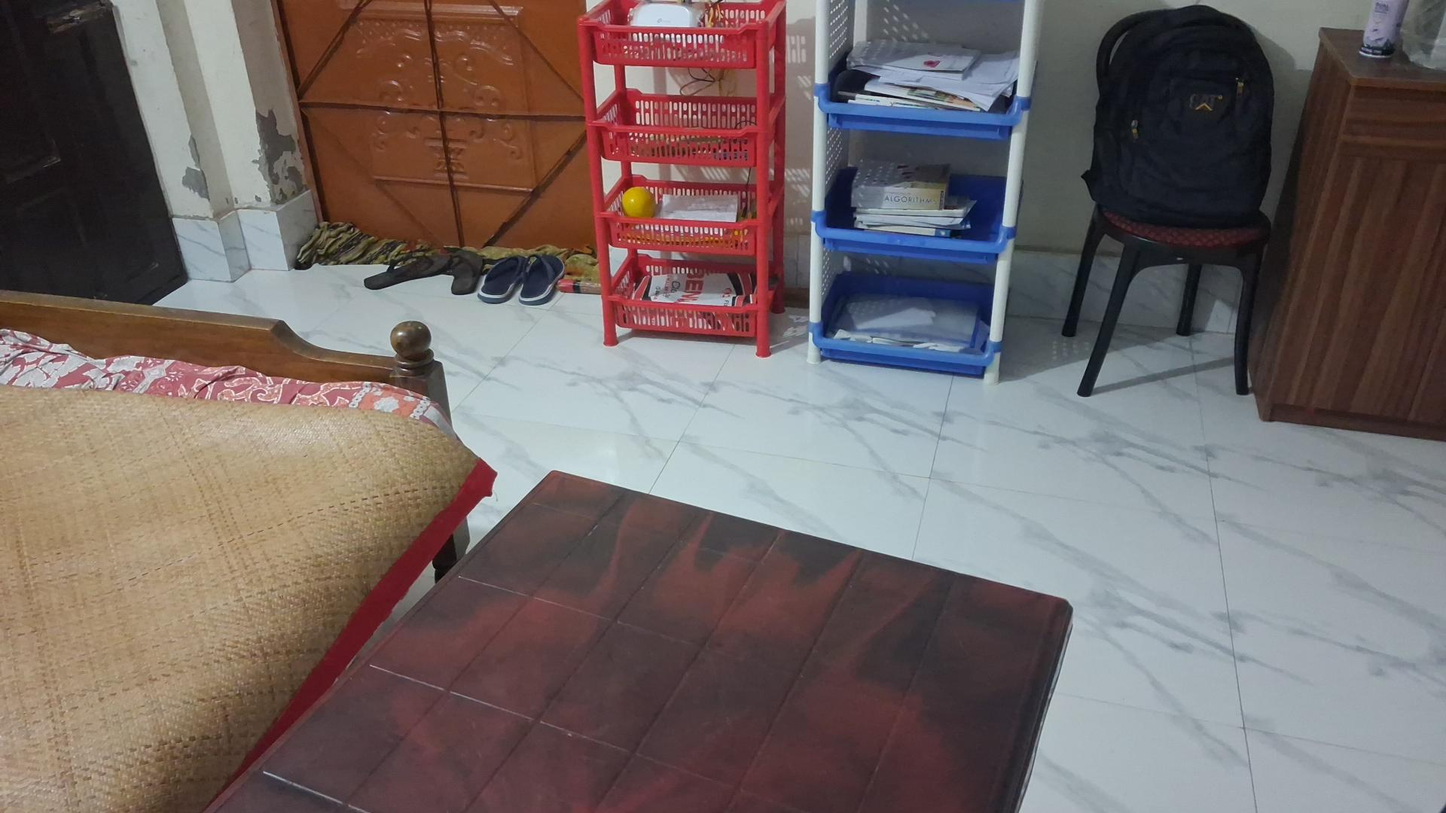Bag: (1082, 10, 1272, 227)
Book: (846, 155, 959, 209)
Chair: (1061, 200, 1272, 399)
Footwear: (364, 252, 484, 294), (477, 254, 563, 302)
Rack: (811, 0, 1035, 389), (575, 0, 792, 360)
Table: (207, 467, 1074, 813)
